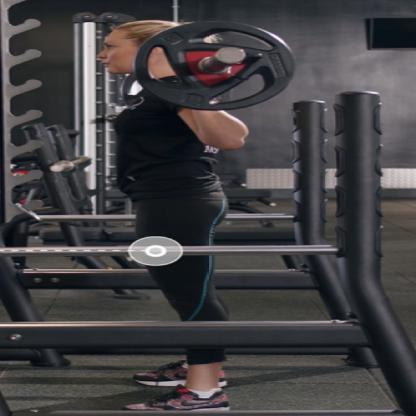Barbell: (127, 18, 306, 112)
